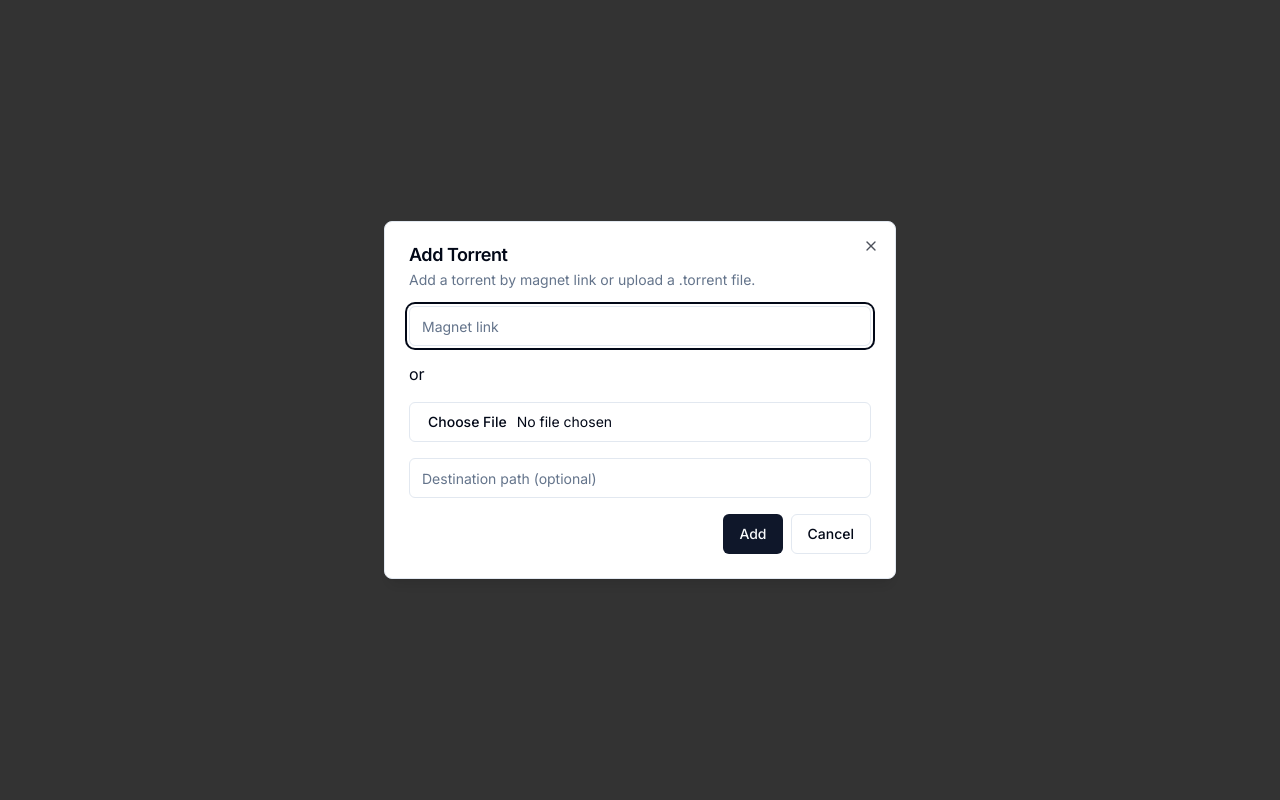
it: AddTorrentDialog › rejects a relative destination before anything else
Type "magnet:?xt=urn:btih:0123456789abcdef0123456789abcdef01234567" into the field with placeholder "Magnet link" at (640, 326), box [409, 306, 871, 346]
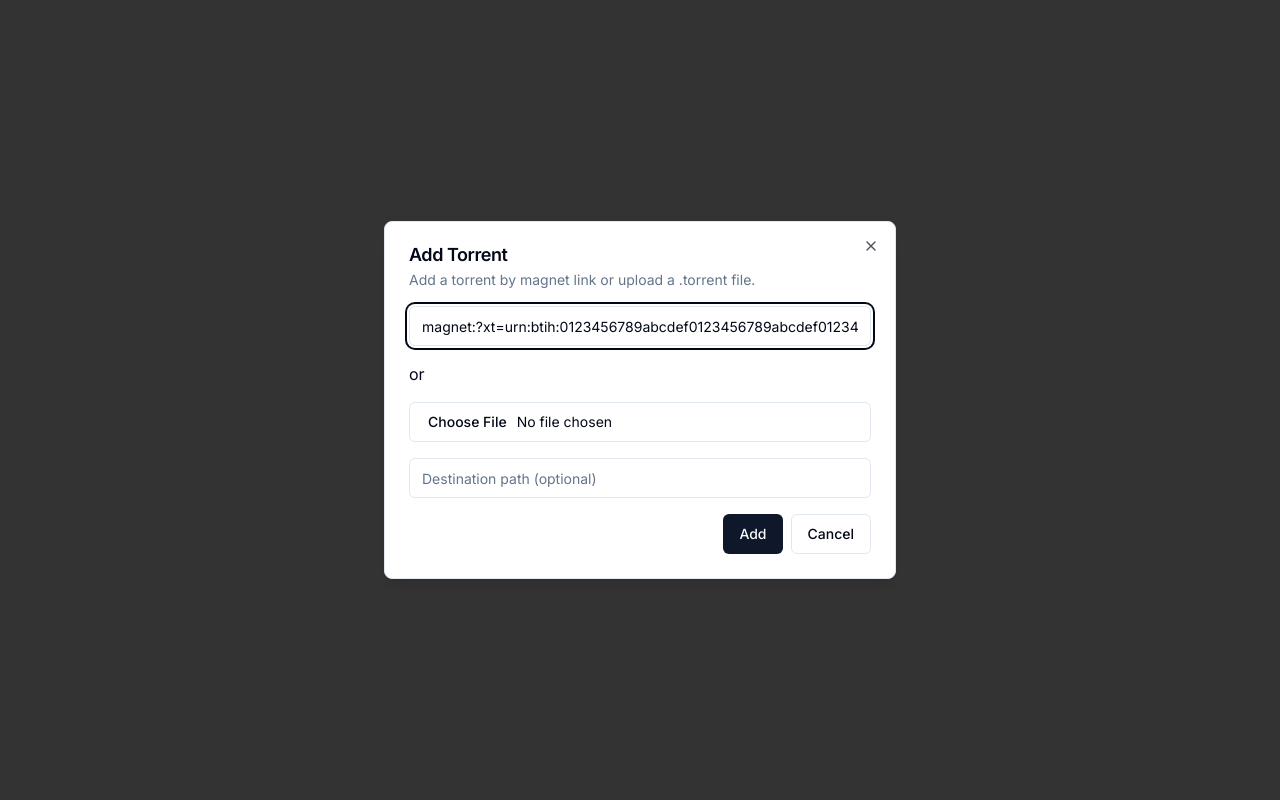
Type "downloads" into the field with placeholder "Destination path (optional)" at (640, 478), box [409, 458, 871, 498]
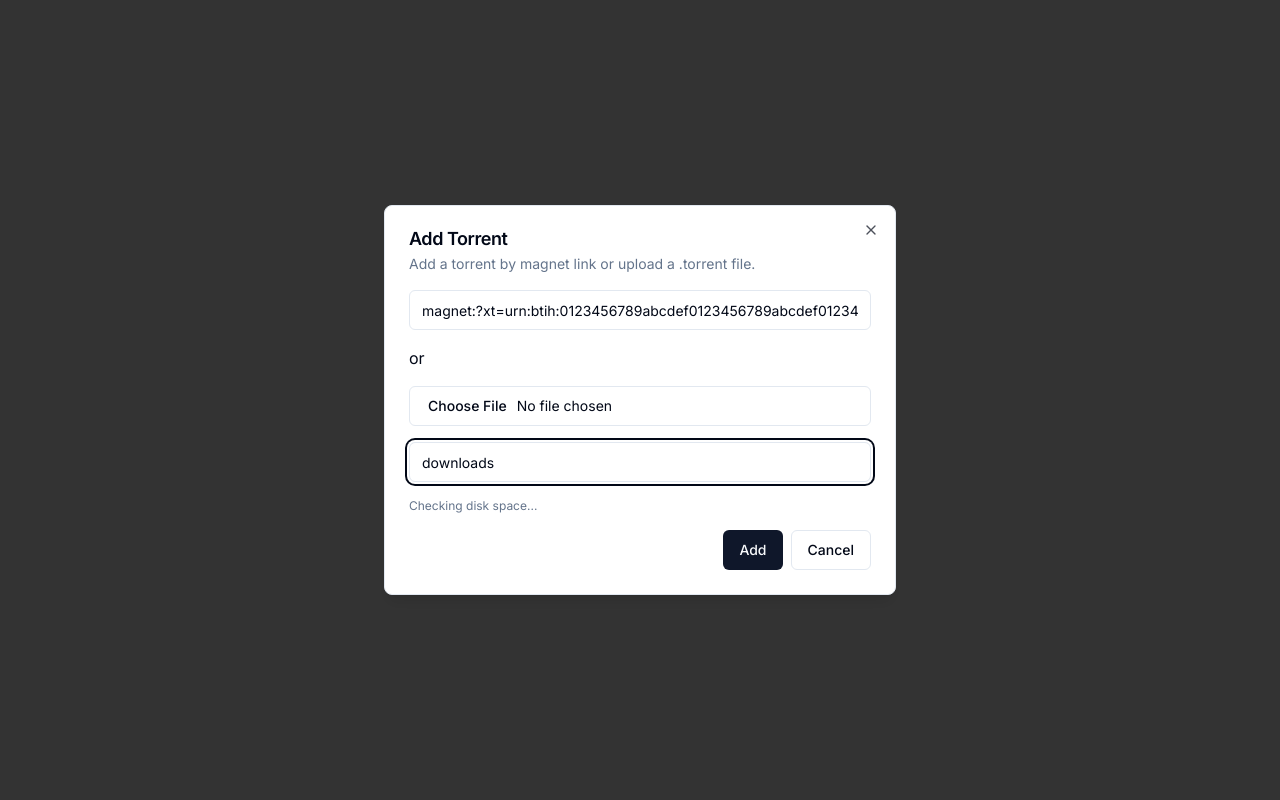
Click the button "Add" at (753, 550), box [723, 530, 782, 570]
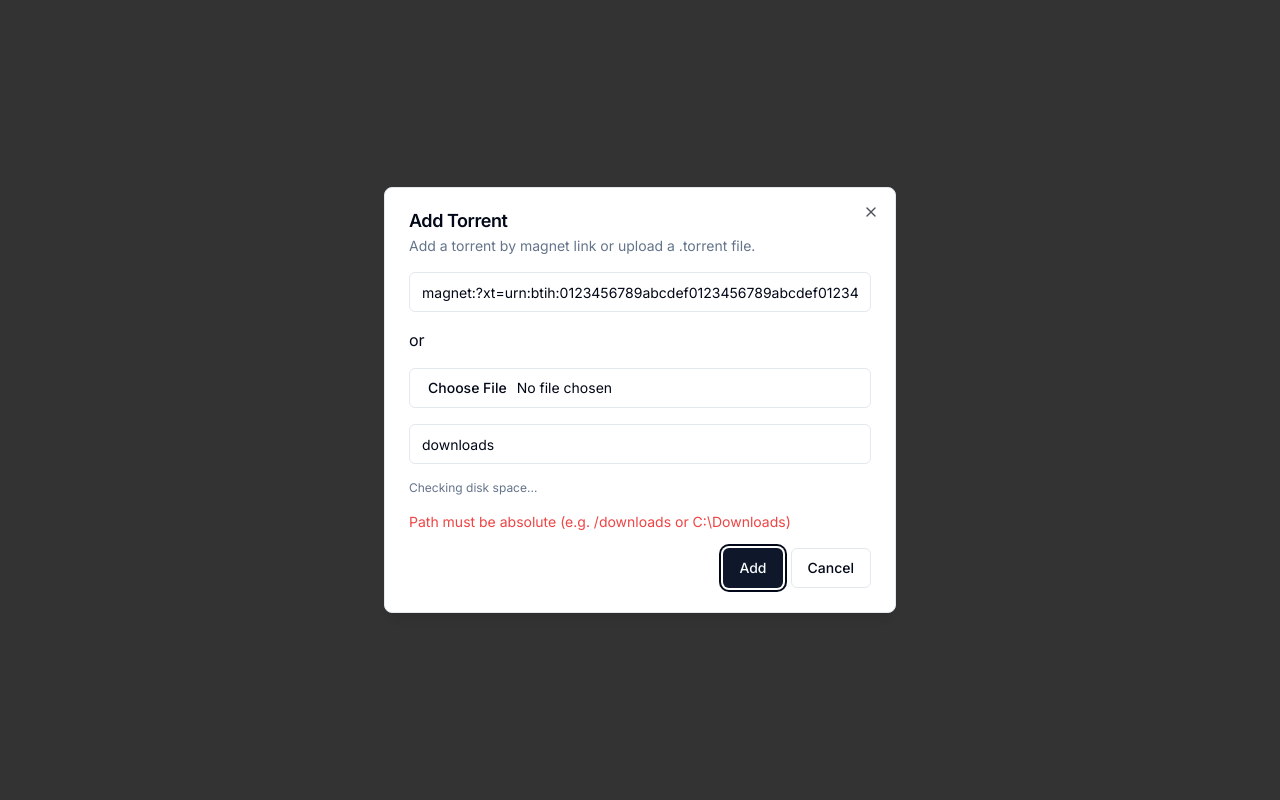
expect the text "Path must be absolute (e.g. /downloads or C:\\Downloads)" is shown: met, box [409, 513, 791, 530]
